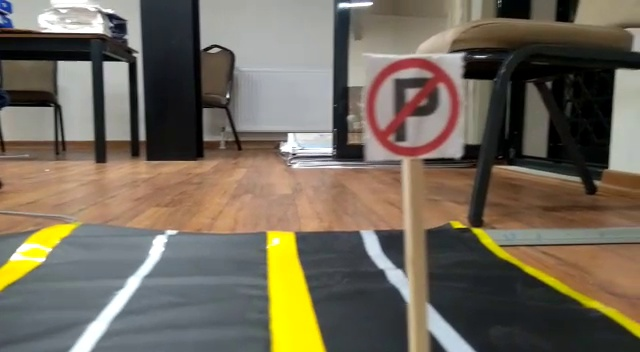park_yapilmaz: (361, 52, 463, 159)
